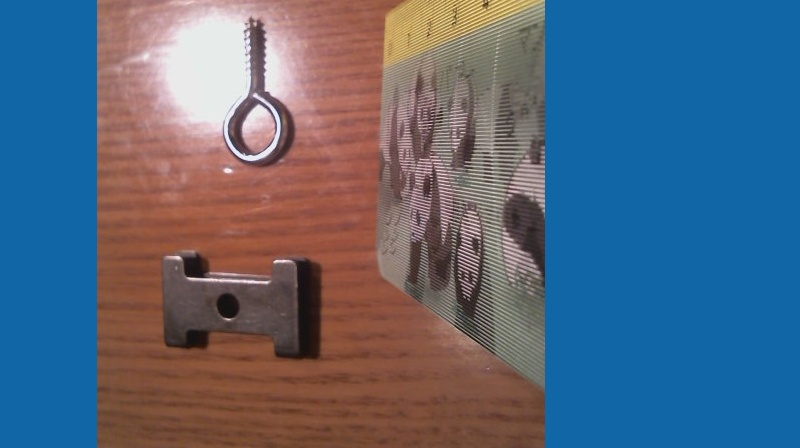O001: (219, 12, 291, 171)
O002: (156, 250, 321, 364)
